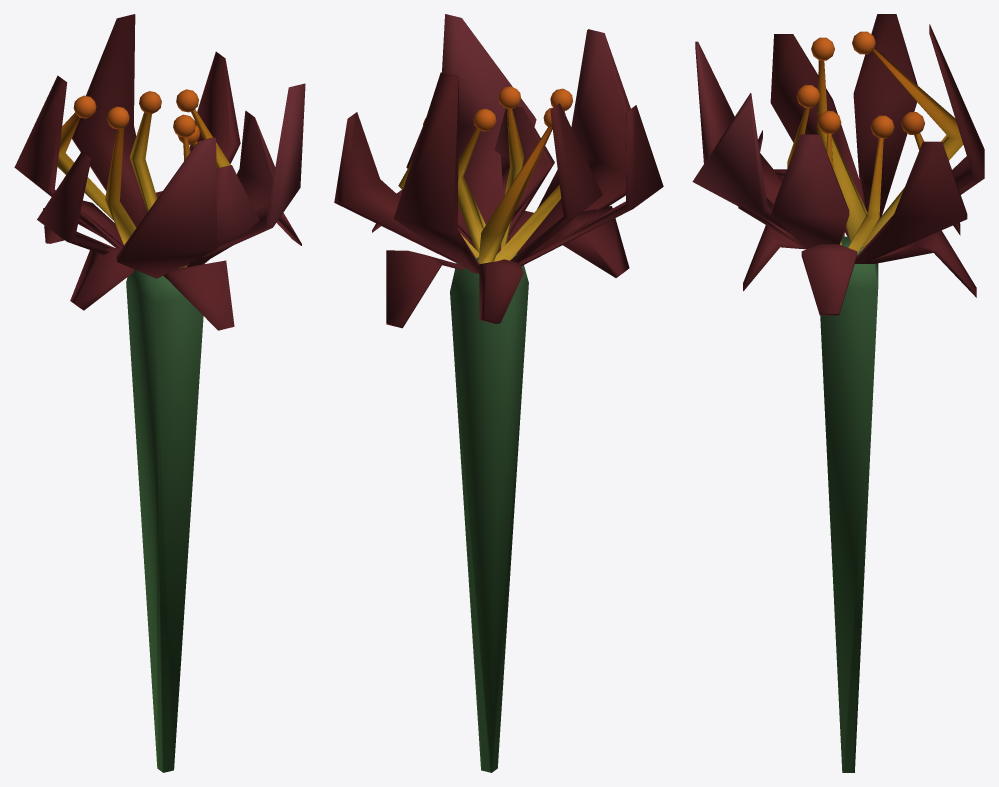
The model's file is örümcek zambağı.fbx.
3 renders of one model, left to right at view 1: azimuth 30°, elevation 25°; view 2: azimuth 150°, elevation 25°; view 3: azimuth 270°, elevation 25°, orthographic. The views are drawn at different scales.
Visible parts, largest first — view 1: Cube.004; view 2: Cube.004; view 3: Cube.004.
Part boxes in pixels (bbox=[...]): Cube.004: bbox=[14, 14, 305, 772]; Cube.004: bbox=[334, 14, 663, 772]; Cube.004: bbox=[692, 14, 984, 772].
Size of the model in its own units: 35.22 by 94.21 by 33.65.
1 material, 1 textured.
